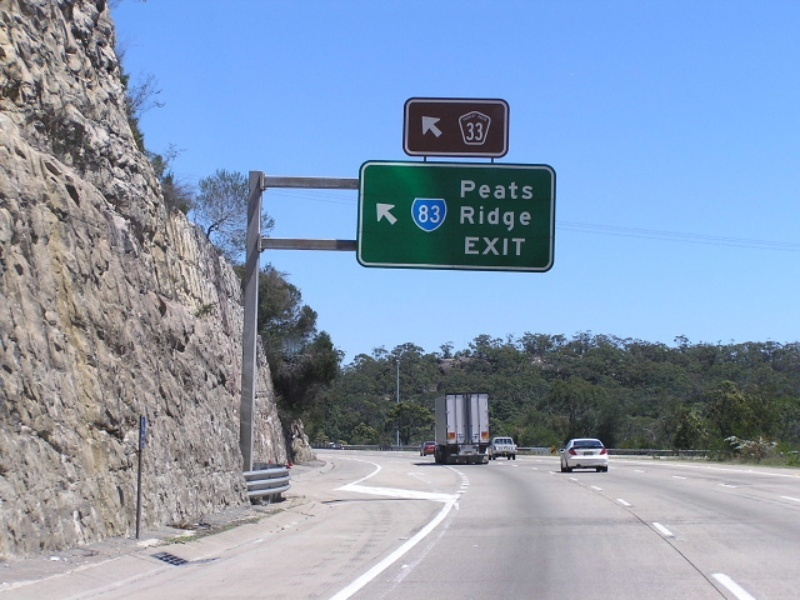text: (465, 203, 480, 233), (481, 203, 496, 233), (497, 203, 512, 233), (513, 203, 528, 233), (417, 201, 432, 228), (465, 179, 480, 202), (481, 179, 496, 202), (497, 179, 512, 202), (513, 179, 528, 202), (481, 237, 496, 257), (497, 237, 512, 257), (466, 121, 480, 142), (466, 237, 480, 257), (513, 237, 527, 257), (433, 201, 442, 228), (458, 203, 464, 233), (529, 179, 534, 202), (460, 179, 464, 202), (529, 203, 532, 233), (481, 121, 485, 142)
